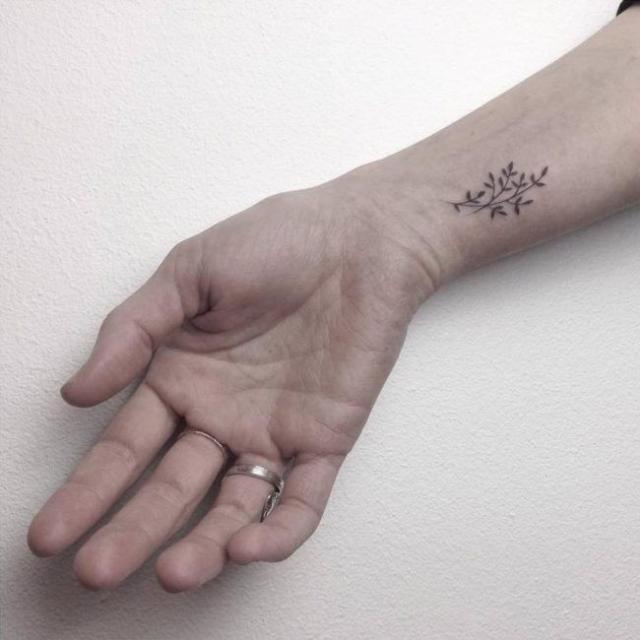no-gloves: (27, 94, 450, 594)
